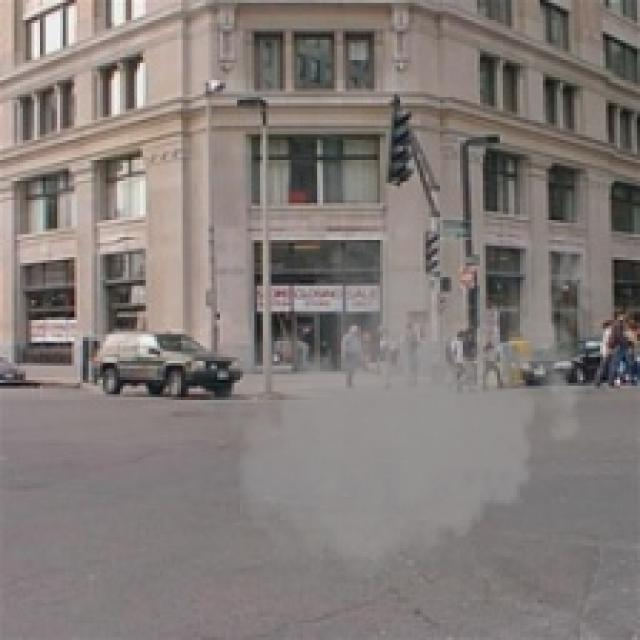smoke: (200, 177, 606, 592)
